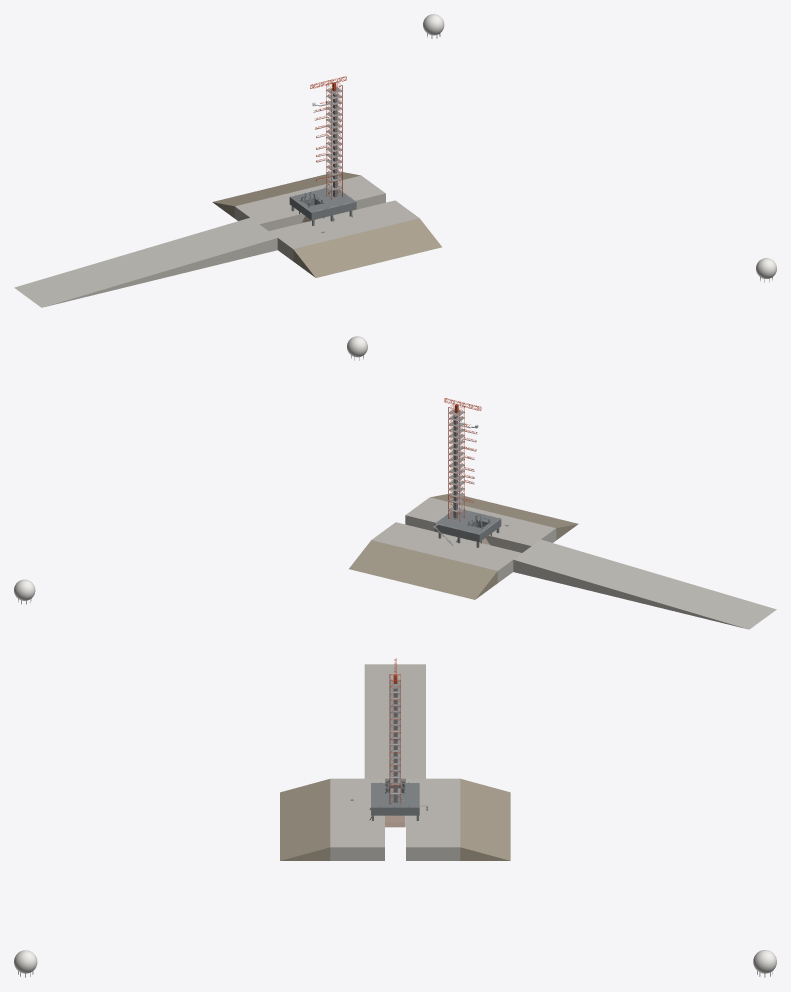
Rendered from pad-b.lod1.glb.
The picture shows the model from 3 angles, top to bottom: view 1: azimuth 30°, elevation 25°; view 2: azimuth 150°, elevation 25°; view 3: azimuth 270°, elevation 25°; orthographic projection. The views are drawn at different scales.
Visible parts, largest first — view 1: Hardstand_Concrete, Hardstand_Earth, Launcher_Base_Steel, Umbilical_Tower_Deck, Umbilical_Tower_Red, Storage_Spheres_White; view 2: Hardstand_Concrete, Hardstand_Earth, Launcher_Base_Steel, Umbilical_Tower_Deck, Umbilical_Tower_Red, Storage_Spheres_White; view 3: Hardstand_Concrete, Hardstand_Earth, Launcher_Base_Steel, Umbilical_Tower_Deck, Storage_Spheres_White, Umbilical_Tower_Red.
Boxes of the visible parts, left/top/right/bottom form: Hardstand_Concrete: left=14, top=175, right=419, bottom=307; Hardstand_Earth: left=212, top=172, right=441, bottom=277; Launcher_Base_Steel: left=289, top=188, right=356, bottom=220; Umbilical_Tower_Deck: left=326, top=87, right=341, bottom=190; Umbilical_Tower_Red: left=326, top=82, right=342, bottom=199; Storage_Spheres_White: left=423, top=14, right=776, bottom=278; Hardstand_Concrete: left=371, top=497, right=776, bottom=629; Hardstand_Earth: left=349, top=493, right=578, bottom=599; Launcher_Base_Steel: left=434, top=510, right=501, bottom=541; Umbilical_Tower_Deck: left=448, top=409, right=464, bottom=512; Umbilical_Tower_Red: left=448, top=404, right=464, bottom=521; Storage_Spheres_White: left=14, top=336, right=367, bottom=600; Hardstand_Concrete: left=330, top=664, right=460, bottom=860; Hardstand_Earth: left=280, top=778, right=510, bottom=860; Launcher_Base_Steel: left=371, top=783, right=419, bottom=815; Umbilical_Tower_Deck: left=390, top=680, right=400, bottom=794; Storage_Spheres_White: left=14, top=950, right=776, bottom=973; Umbilical_Tower_Red: left=389, top=674, right=400, bottom=804.
Size of the model in its own units: 630 by 149 by 645.
